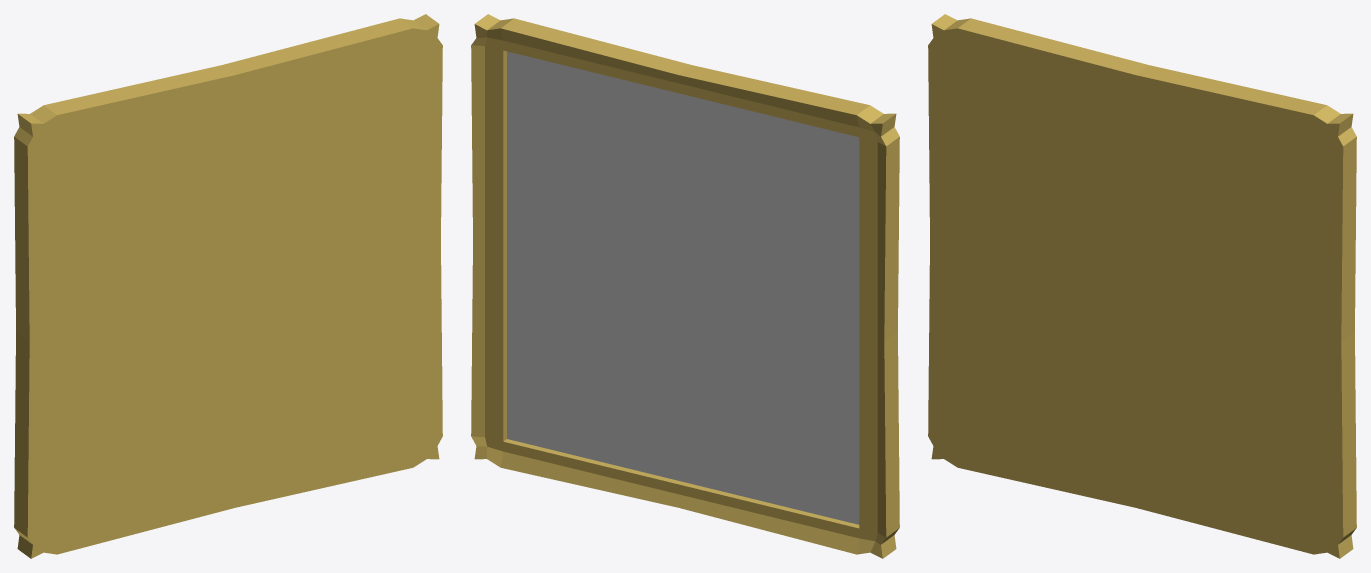
The model's file is Pictureframe_Square.fbx.
The picture shows the model from 3 angles, left to right: view 1: azimuth 30°, elevation 25°; view 2: azimuth 150°, elevation 25°; view 3: azimuth 330°, elevation 25°; orthographic projection.
Visible parts, largest first — view 1: Cube; view 2: Cube; view 3: Cube.
Part boxes in pixels (x1,y1,x2,y2): Cube: [14, 14, 442, 558]; Cube: [471, 14, 899, 558]; Cube: [928, 14, 1356, 558].
Size of the model in its own units: 197 by 199 by 11.16.
